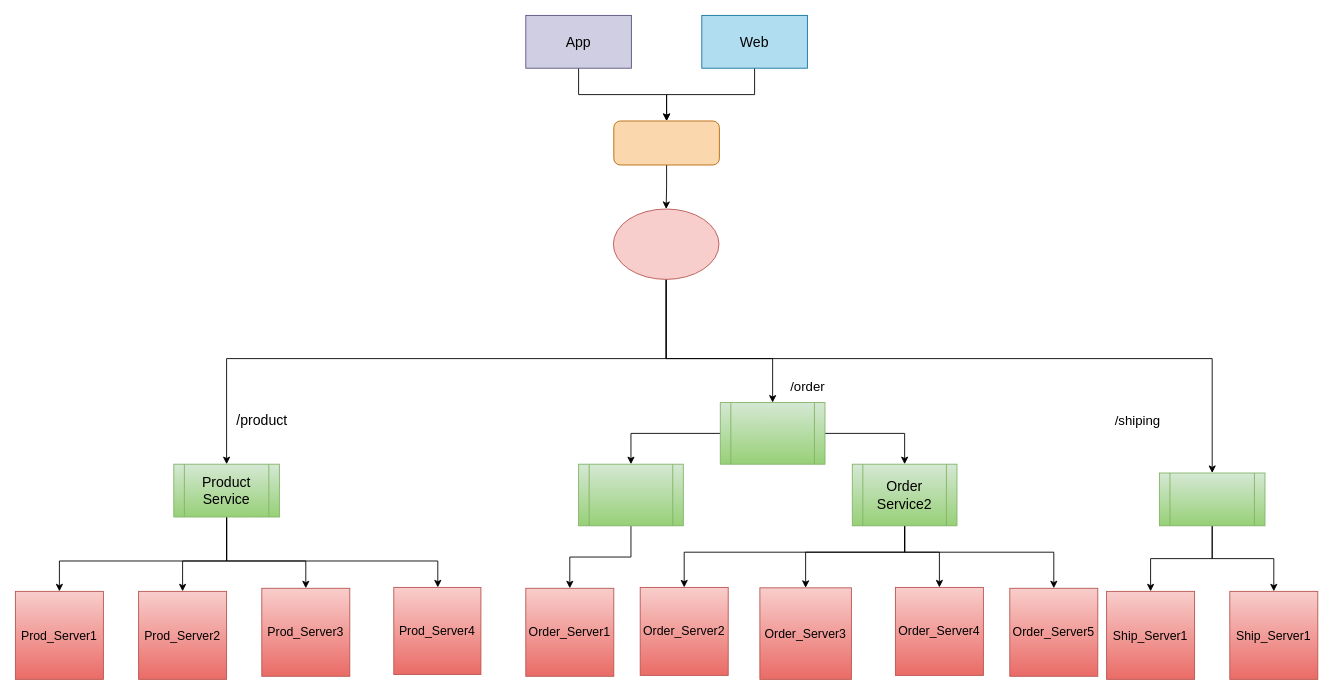
This 1333x695 diagram has some shape labels left out. Here are the shapes that lost their labels. From the top down, the centre of each, then its label:
At (x=666, y=142): "API Gateway".
At (x=665, y=243): "Traefik".
At (x=772, y=433): "Order Service".
At (x=630, y=494): "Order Service1".
At (x=1212, y=499): "Shiping Service".
